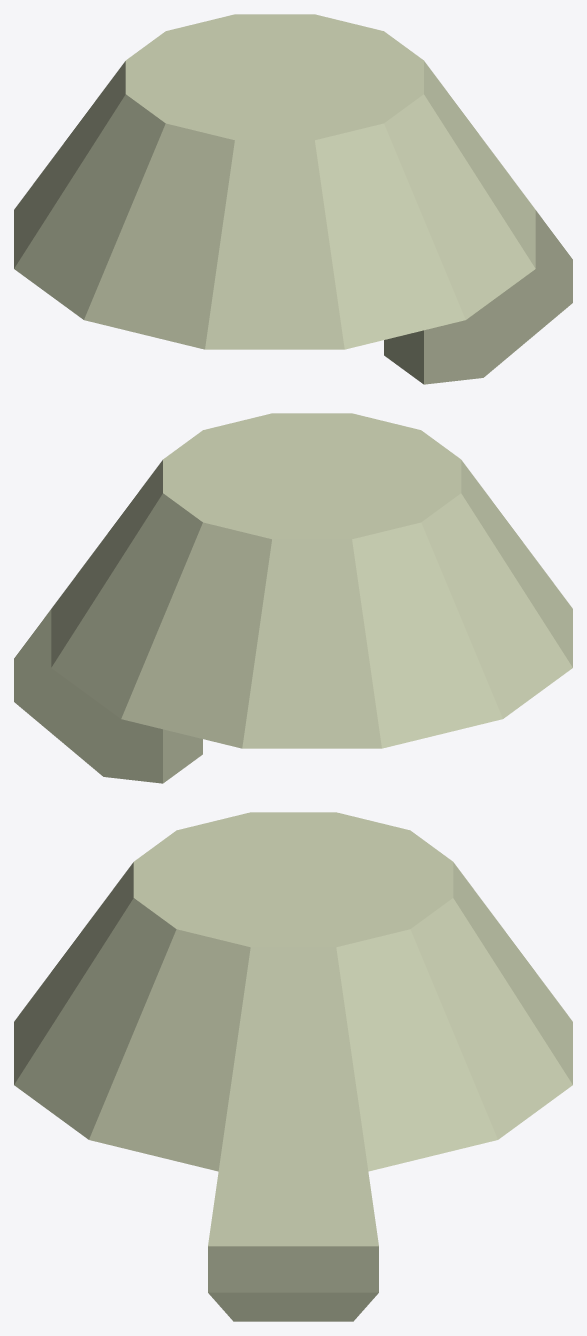
The model's file is 4mv_avionics_s0_1_collider_split.obj.
The picture shows the model from 3 angles, top to bottom: view 1: azimuth 30°, elevation 25°; view 2: azimuth 150°, elevation 25°; view 3: azimuth 270°, elevation 25°; orthographic projection. The views are drawn at different scales.
Visible parts, largest first — view 1: collider1, collider2; view 2: collider1, collider2; view 3: collider1, collider2.
Boxes of the visible parts, x1=… form: collider1: x1=14, y1=14, x2=535, y2=349; collider2: x1=384, y1=210, x2=572, y2=384; collider1: x1=51, y1=413, x2=572, y2=748; collider2: x1=14, y1=609, x2=202, y2=783; collider1: x1=14, y1=812, x2=572, y2=1171; collider2: x1=208, y1=1171, x2=378, y2=1321.
Bounding box in the file's own units: 1.17 × 0.75 × 1.09.
